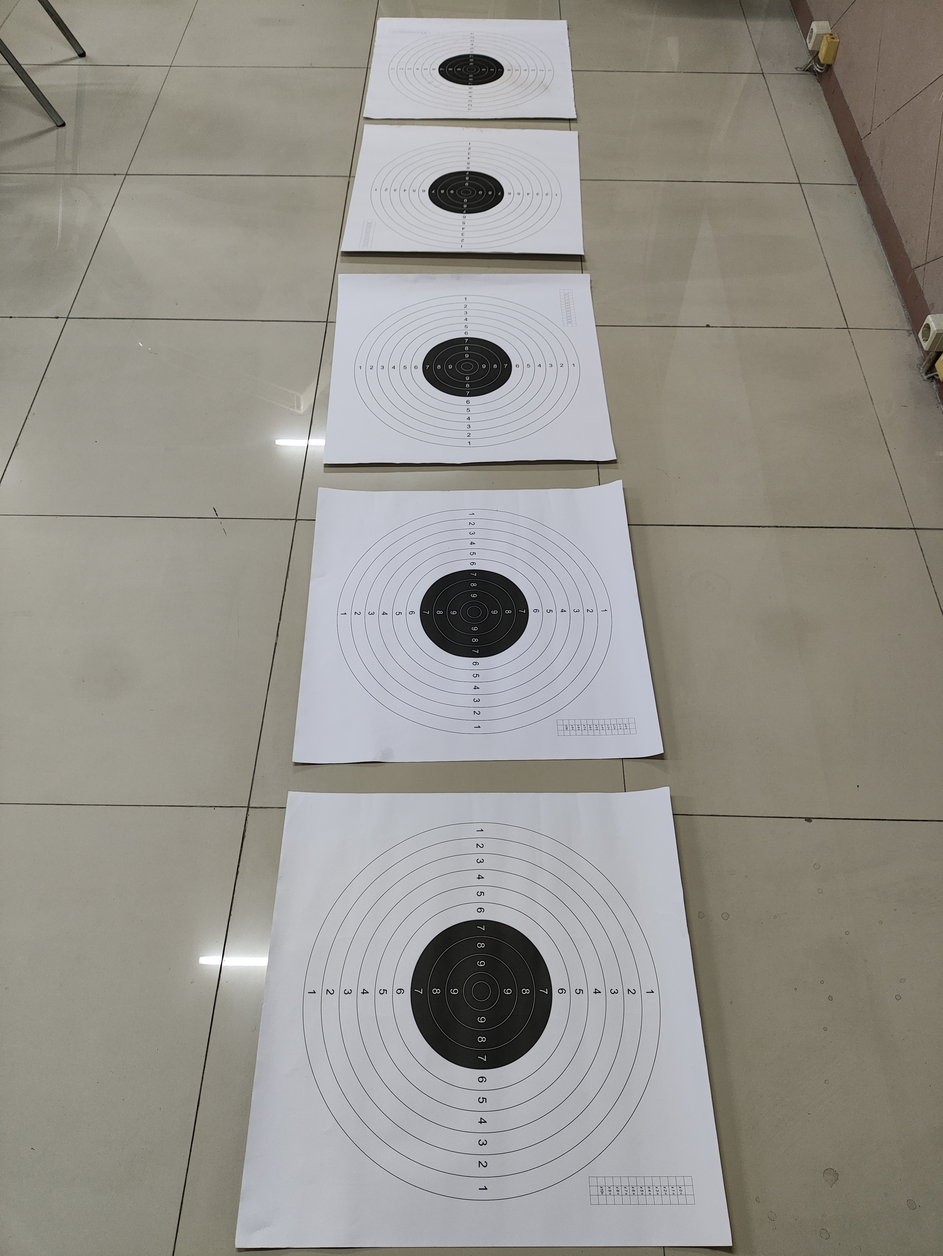target: (293, 804, 676, 1214), (326, 492, 627, 750), (337, 280, 584, 448), (356, 3, 584, 120), (359, 139, 576, 247)
